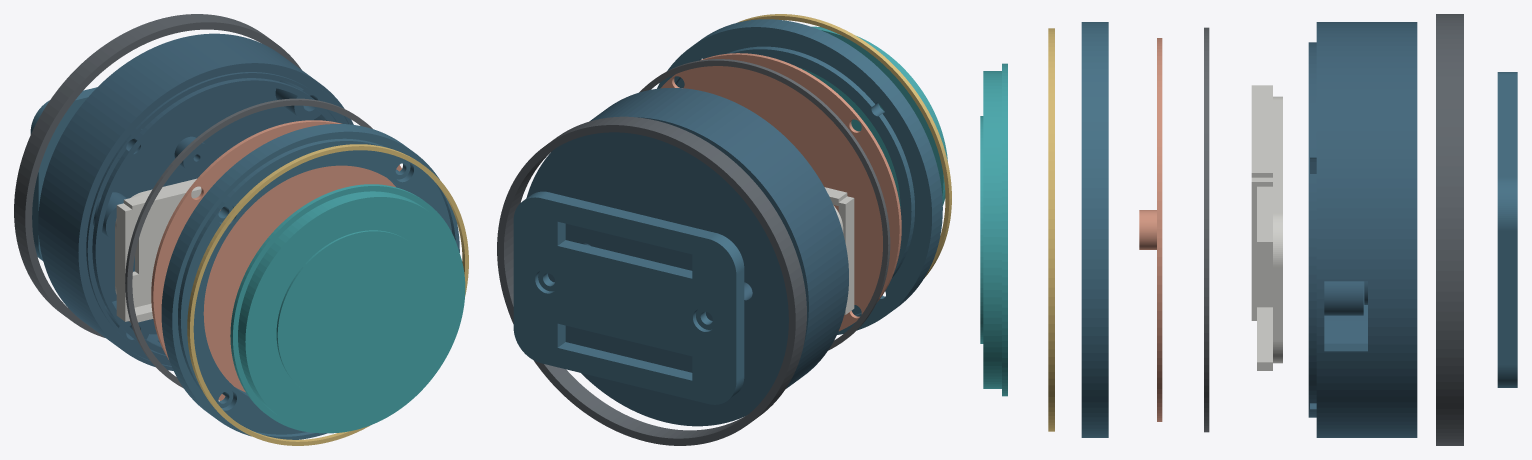
The model's file is wearable-pod-v1-exploded.glb.
The picture shows the model from 3 angles, left to right: view 1: azimuth 30°, elevation 25°; view 2: azimuth 150°, elevation 25°; view 3: azimuth 270°, elevation 25°; orthographic projection. The views are drawn at different scales.
Parts seen in each view (by area): view 1: 03-button-cap, 01-base-shell, 02-top-lid, 04-button-membrane-tpu, 07-drop-bumper-tpu, 09-electronics-carrier, 06-light-ring-transparent, 05-perimeter-gasket-tpu, 08-strap-mount; view 2: 01-base-shell, 08-strap-mount, 02-top-lid, 04-button-membrane-tpu, 07-drop-bumper-tpu, 05-perimeter-gasket-tpu, 03-button-cap, 06-light-ring-transparent, 09-electronics-carrier; view 3: 01-base-shell, 07-drop-bumper-tpu, 02-top-lid, 03-button-cap, 09-electronics-carrier, 08-strap-mount, 04-button-membrane-tpu, 06-light-ring-transparent, 05-perimeter-gasket-tpu.
Part boxes in pixels (bbox=[...]): 03-button-cap: bbox=[230, 184, 465, 433]; 01-base-shell: bbox=[38, 33, 353, 370]; 02-top-lid: bbox=[161, 124, 459, 439]; 04-button-membrane-tpu: bbox=[151, 120, 401, 400]; 07-drop-bumper-tpu: bbox=[14, 14, 301, 337]; 09-electronics-carrier: bbox=[115, 178, 201, 322]; 06-light-ring-transparent: bbox=[187, 144, 468, 445]; 05-perimeter-gasket-tpu: bbox=[125, 98, 372, 388]; 08-strap-mount: bbox=[30, 87, 97, 260]; 01-base-shell: bbox=[526, 88, 848, 426]; 08-strap-mount: bbox=[513, 191, 744, 404]; 02-top-lid: bbox=[657, 19, 942, 334]; 04-button-membrane-tpu: bbox=[661, 53, 901, 331]; 07-drop-bumper-tpu: bbox=[497, 116, 806, 445]; 05-perimeter-gasket-tpu: bbox=[639, 59, 890, 350]; 03-button-cap: bbox=[797, 26, 947, 208]; 06-light-ring-transparent: bbox=[738, 14, 951, 278]; 09-electronics-carrier: bbox=[824, 187, 854, 314]; 01-base-shell: bbox=[1308, 22, 1417, 437]; 07-drop-bumper-tpu: bbox=[1436, 14, 1463, 445]; 02-top-lid: bbox=[1081, 22, 1108, 437]; 03-button-cap: bbox=[980, 63, 1007, 396]; 09-electronics-carrier: bbox=[1251, 85, 1282, 370]; 08-strap-mount: bbox=[1497, 72, 1517, 387]; 04-button-membrane-tpu: bbox=[1139, 38, 1162, 421]; 06-light-ring-transparent: bbox=[1048, 28, 1054, 431]; 05-perimeter-gasket-tpu: bbox=[1204, 27, 1209, 432].
Bounding box in the file's own units: 64.4 × 64.4 × 80.15.
